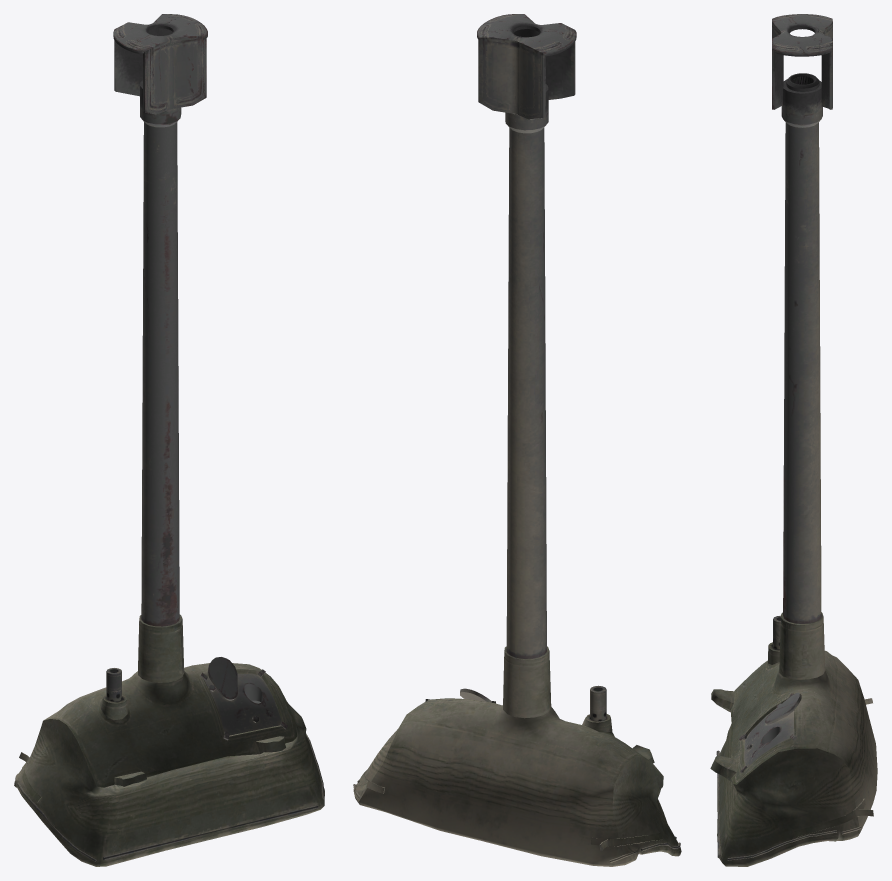
Rendered from Gun_01.glb.
3 renders of one model, left to right at view 1: azimuth 30°, elevation 25°; view 2: azimuth 150°, elevation 25°; view 3: azimuth 270°, elevation 25°, orthographic. The views are drawn at different scales.
Visible parts, largest first — view 1: set_0_group_0; view 2: set_0_group_0; view 3: set_0_group_0.
Boxes of the visible parts, x1=… form: set_0_group_0: x1=14, y1=14, x2=324, y2=866; set_0_group_0: x1=353, y1=14, x2=681, y2=866; set_0_group_0: x1=710, y1=14, x2=877, y2=866.
Bounding box in the file's own units: 1.31 × 3.53 × 0.6872.
1 material, 1 textured.
